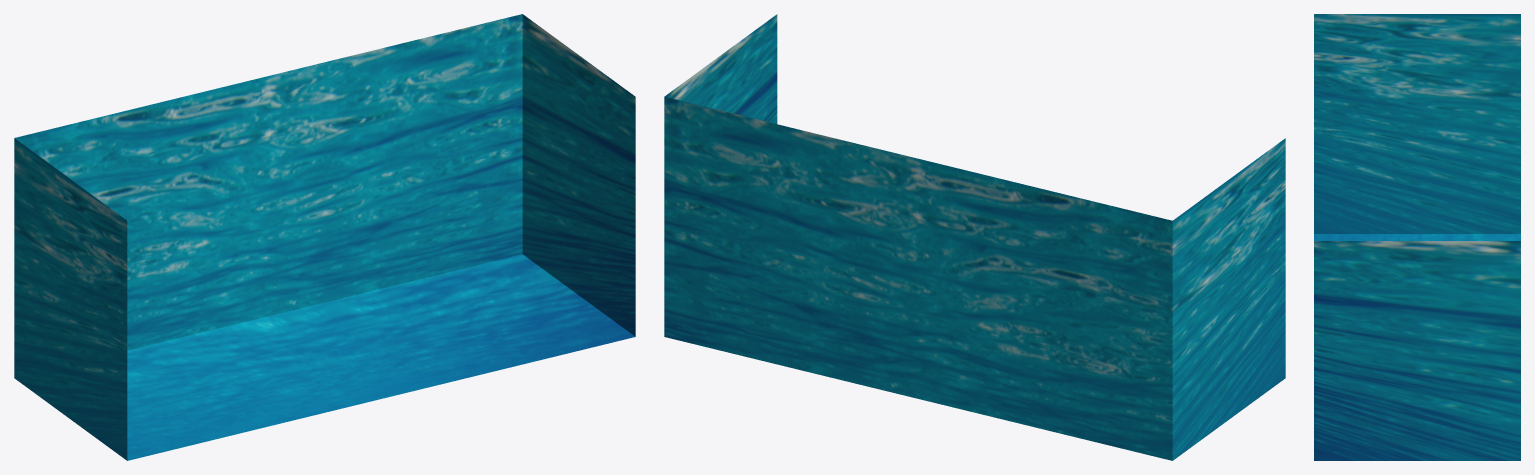
Rendered from UW_Floor_Surface_5.dae.
The picture shows the model from 3 angles, left to right: view 1: azimuth 30°, elevation 25°; view 2: azimuth 150°, elevation 25°; view 3: azimuth 270°, elevation 25°; orthographic projection. The views are drawn at different scales.
Parts seen in each view (by area): view 1: Cube_001; view 2: Cube_001; view 3: Cube_001.
Part boxes in pixels (bbox=[...]): Cube_001: bbox=[14, 14, 635, 460]; Cube_001: bbox=[664, 14, 1285, 460]; Cube_001: bbox=[1314, 14, 1520, 460].
Size of the model in its own units: 1222 by 471 by 552.
Materials: 1 (1 with a texture image).
